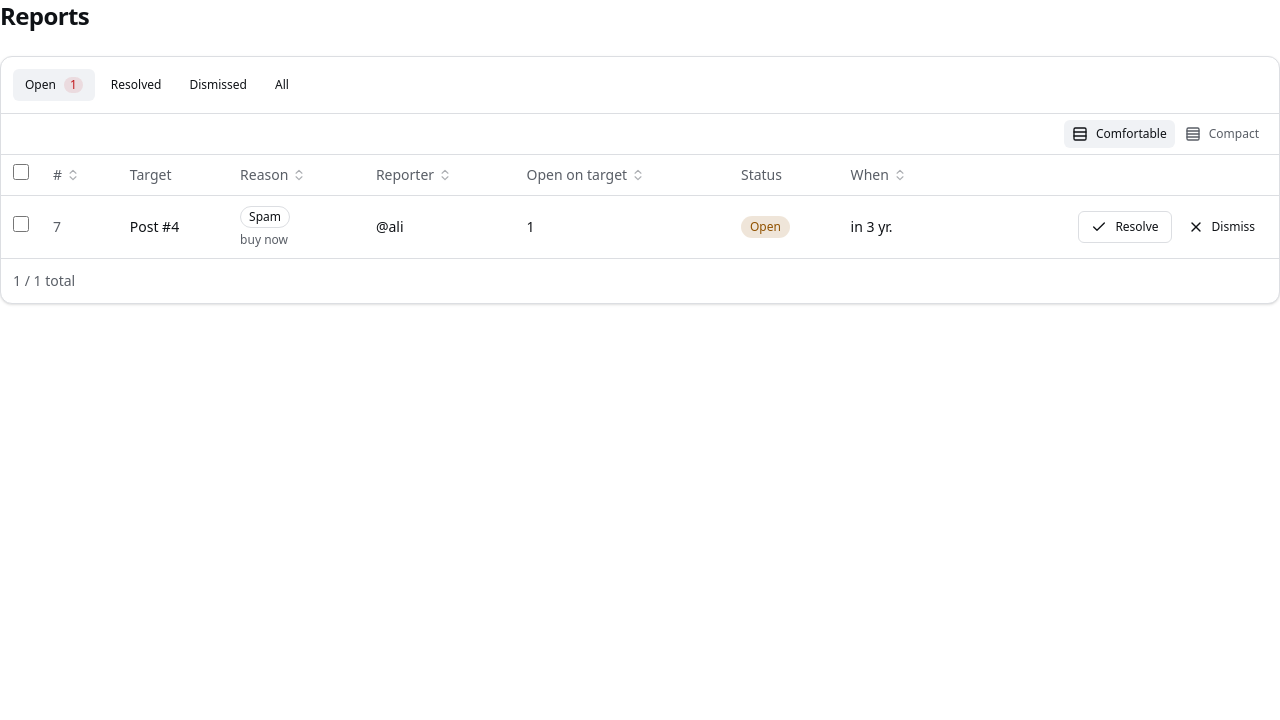
ReportsPage › resolves with content removal
Expected: the button named "Open, 1 open" is shown, [13,69,95,101]
What coordinates should you click on to do the following:
click the button with aria-label "Resolve #7"
I would click on:
 (1125, 226)
Its box is [1078,210,1172,242].
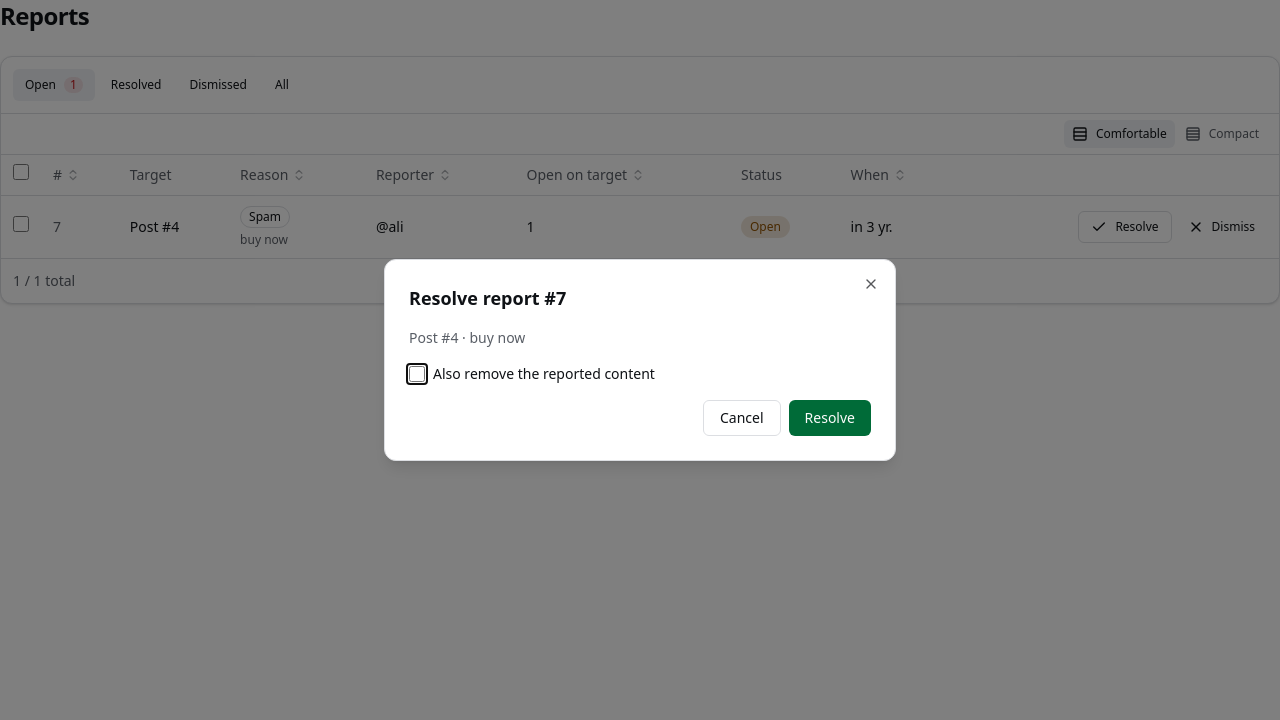
What coordinates should you click on to do the following:
click the checkbox labelled "Also remove the reported content"
I would click on:
 (417, 374)
Its box is [409,366,425,382].
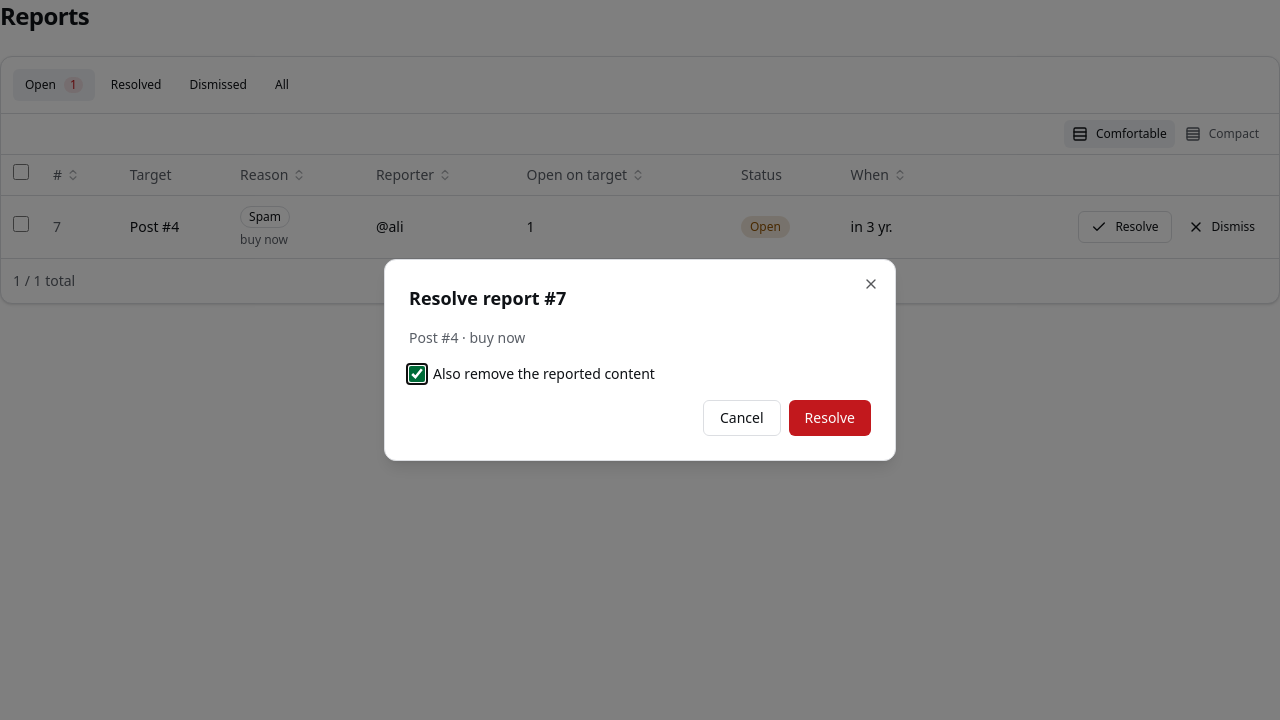
What coordinates should you click on to do the following:
click the button "Resolve"
I would click on:
 (830, 418)
Its box is [789,400,871,436].
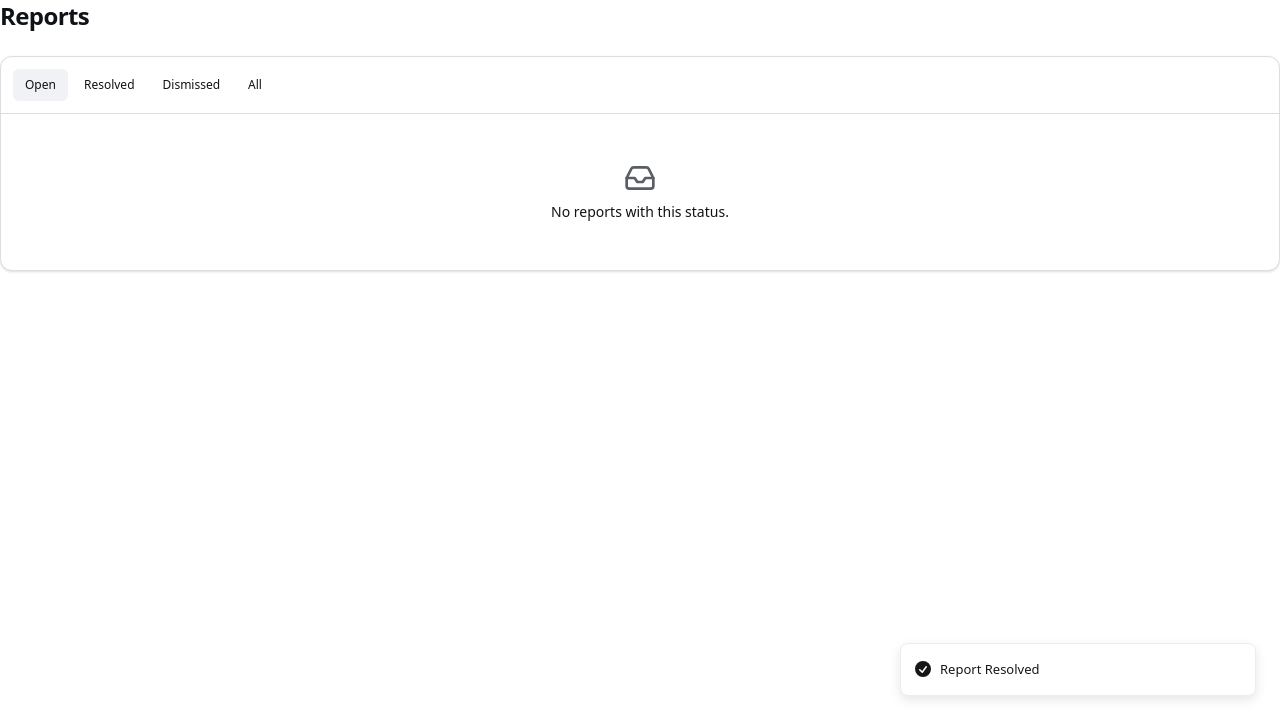
Expected: the button "Open" is shown, [13,69,68,101]
Expected: the text "No reports with this status." is shown, [551,202,729,222]
